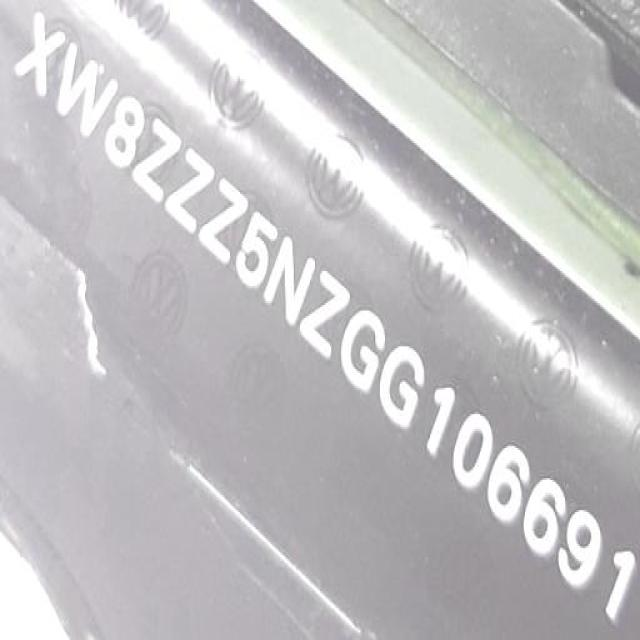0: (450, 407, 499, 504)
1: (418, 376, 460, 465), (602, 548, 638, 625)
5: (235, 204, 278, 296)
6: (522, 474, 567, 556), (486, 446, 528, 524)
8: (97, 89, 152, 180)
9: (557, 509, 602, 588)
G: (336, 302, 389, 399), (378, 348, 424, 428)
N: (262, 232, 316, 333)
W: (49, 36, 118, 148)
X: (4, 6, 74, 98)
Z: (296, 261, 352, 364), (134, 117, 188, 212), (165, 150, 220, 242), (199, 175, 251, 272)
